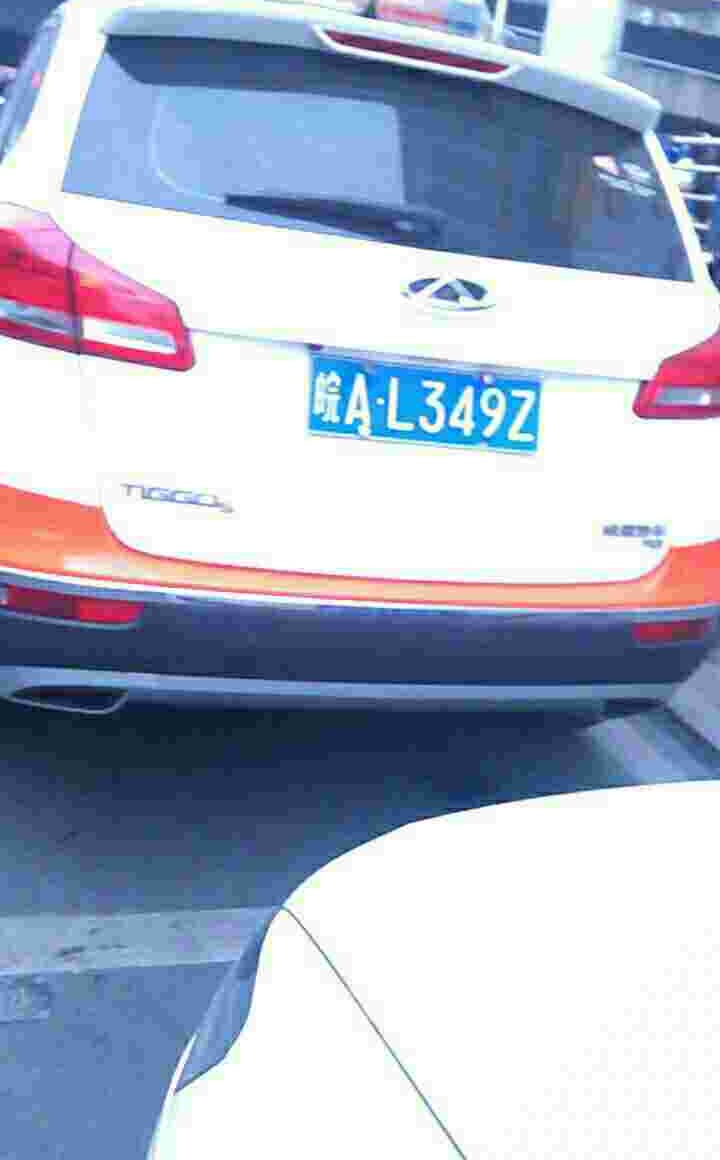car: (306, 342, 564, 448)
